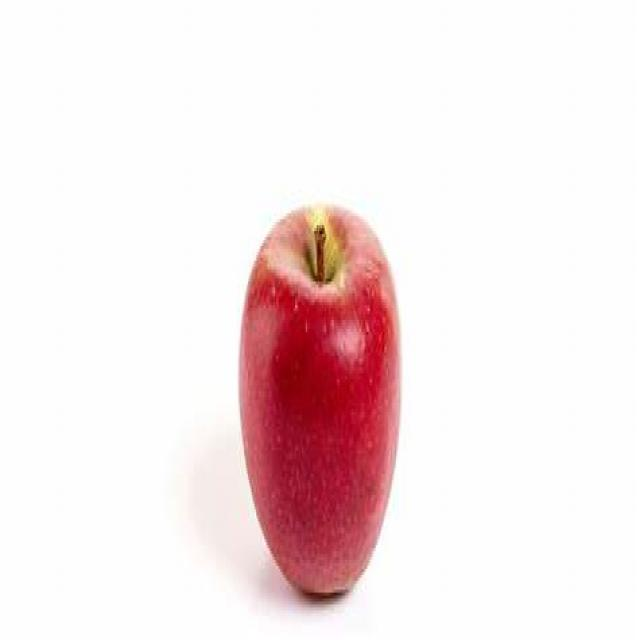Apple: (240, 200, 402, 598)
